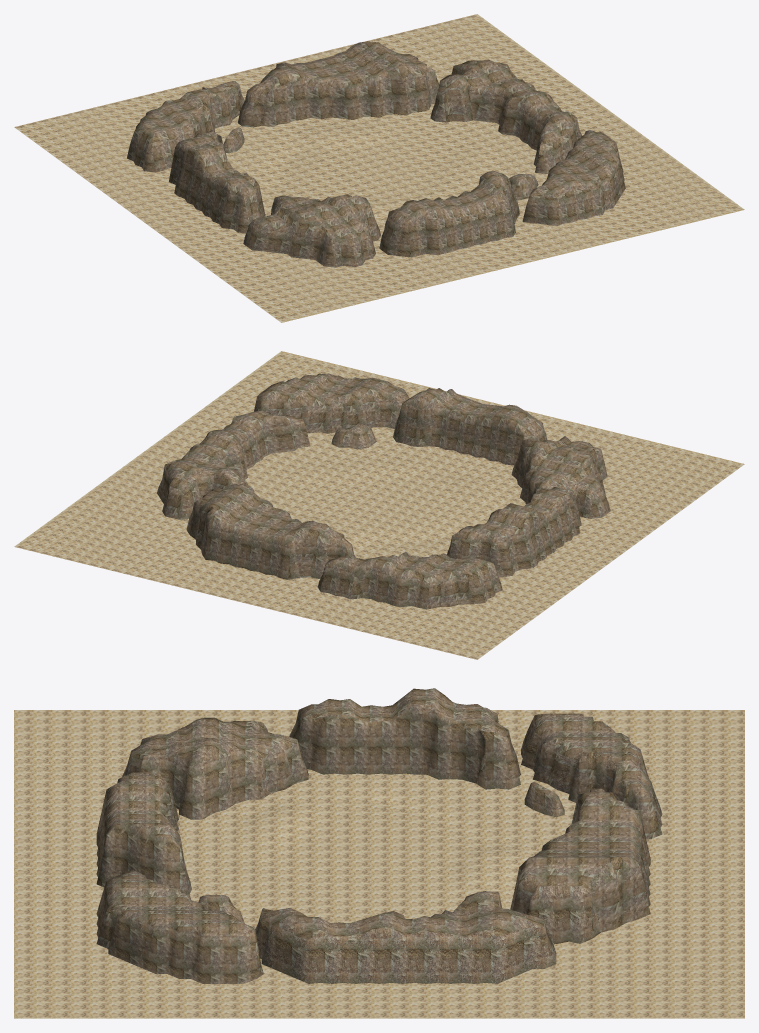
Rendered from map40.fbx.
3 views of the same model, one above another, from view 1: azimuth 30°, elevation 25°; view 2: azimuth 150°, elevation 25°; view 3: azimuth 270°, elevation 25° (orthographic). The views are drawn at different scales.
Parts seen in each view (by area): view 1: map40:Layer1, map40:Layer8, map40:Layer2, map40:Layer4, map40:Layer5, map40:Layer3, map40:Layer6, map40:Layer7, map40:Layer9; view 2: map40:Layer1, map40:Layer8, map40:Layer7, map40:Layer2, map40:Layer4, map40:Layer6, map40:Layer3, map40:Layer5, map40:Layer9; view 3: map40:Layer1, map40:Layer2, map40:Layer6, map40:Layer8, map40:Layer3, map40:Layer5, map40:Layer7, map40:Layer4, map40:Layer10, map40:Layer9.
Boxes of the visible parts, box(x1,y1,x2,y2) form: map40:Layer1: box(14, 14, 744, 322); map40:Layer8: box(237, 41, 439, 127); map40:Layer2: box(430, 59, 582, 173); map40:Layer4: box(379, 170, 519, 257); map40:Layer5: box(243, 194, 381, 267); map40:Layer3: box(522, 130, 625, 225); map40:Layer6: box(169, 130, 265, 233); map40:Layer7: box(127, 81, 244, 172); map40:Layer9: box(509, 173, 538, 199); map40:Layer1: box(14, 351, 744, 659); map40:Layer8: box(186, 483, 355, 579); map40:Layer7: box(317, 551, 502, 609); map40:Layer2: box(157, 411, 310, 519); map40:Layer4: box(393, 388, 547, 465); map40:Layer6: box(447, 487, 581, 577); map40:Layer3: box(254, 373, 409, 433); map40:Layer5: box(511, 436, 610, 518); map40:Layer9: box(331, 423, 376, 449); map40:Layer1: box(14, 710, 744, 1018); map40:Layer2: box(255, 891, 556, 983); map40:Layer6: box(289, 688, 520, 789); map40:Layer8: box(510, 788, 650, 943); map40:Layer3: box(96, 870, 263, 983); map40:Layer5: box(122, 717, 308, 819); map40:Layer7: box(521, 713, 662, 839); map40:Layer4: box(96, 772, 191, 897); map40:Layer10: box(524, 781, 564, 817); map40:Layer9: box(198, 895, 244, 923).
Size of the model in its own units: 3.1 by 0.3062 by 3.1.
Materials: 3 (3 with a texture image).
